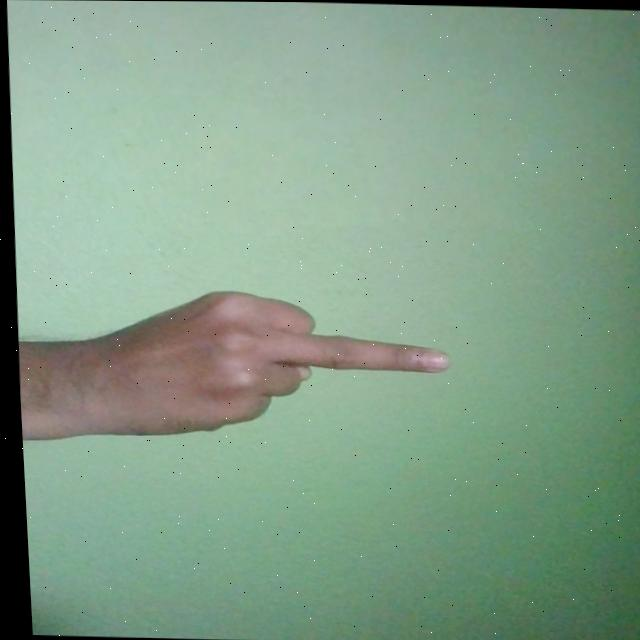Middle Finger: (26, 286, 453, 442)
